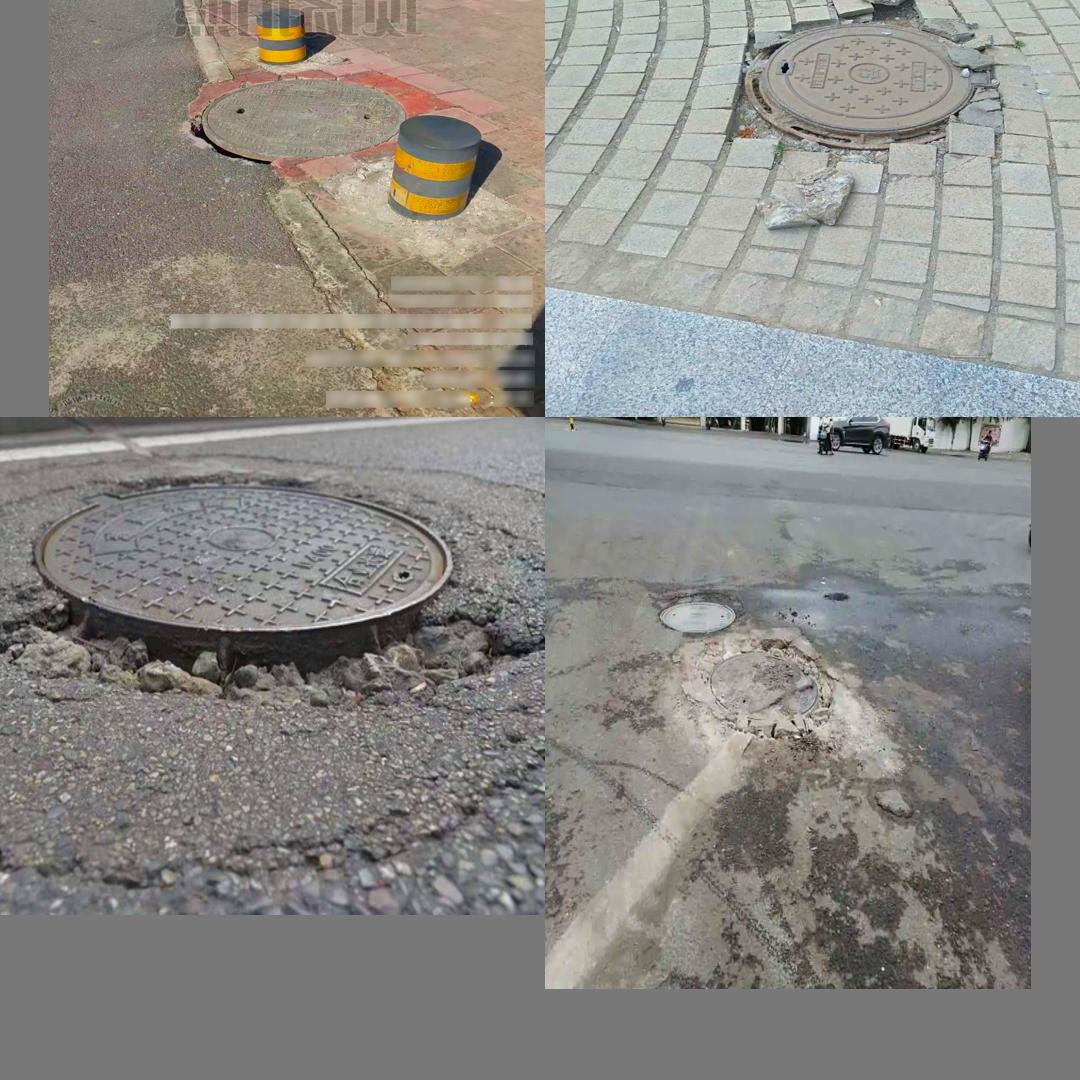circle: (0, 453, 535, 757), (700, 0, 1037, 178), (685, 628, 872, 788), (183, 72, 409, 171)
